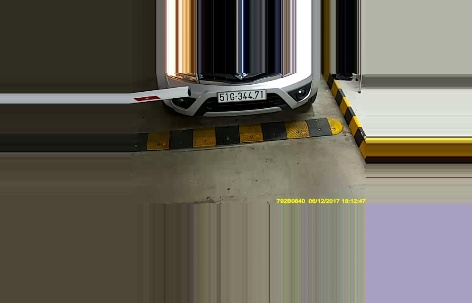plate: (217, 90, 267, 101)
